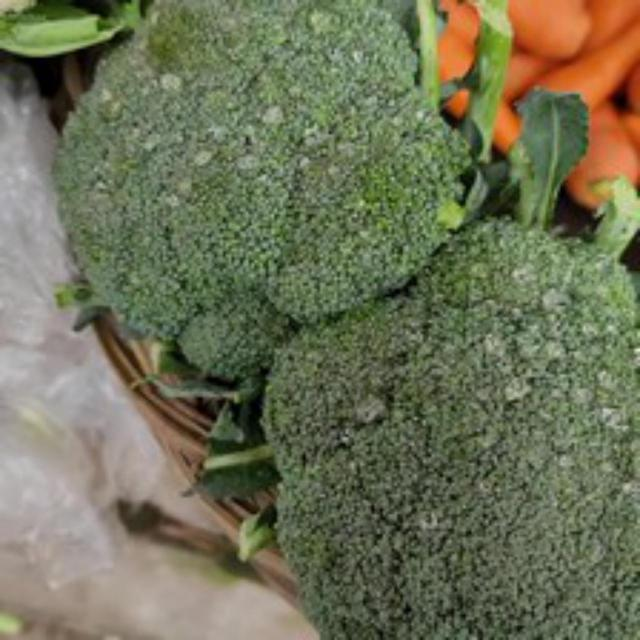broccoli: (251, 211, 637, 637)
